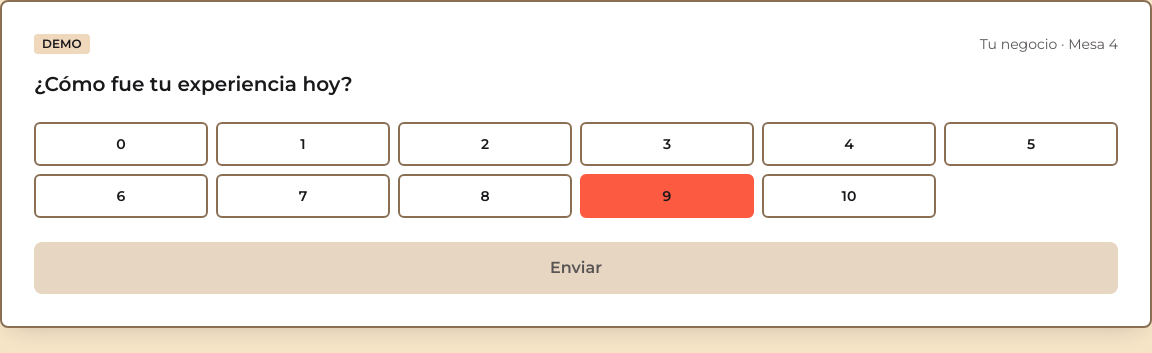
SurveyCard › submit button is disabled until a selection is made
Check: the button "Enviar" is disabled, box [34, 242, 1118, 294]
Select a value
Click the radio button labelled "5" at (1031, 144), box [944, 122, 1118, 166]
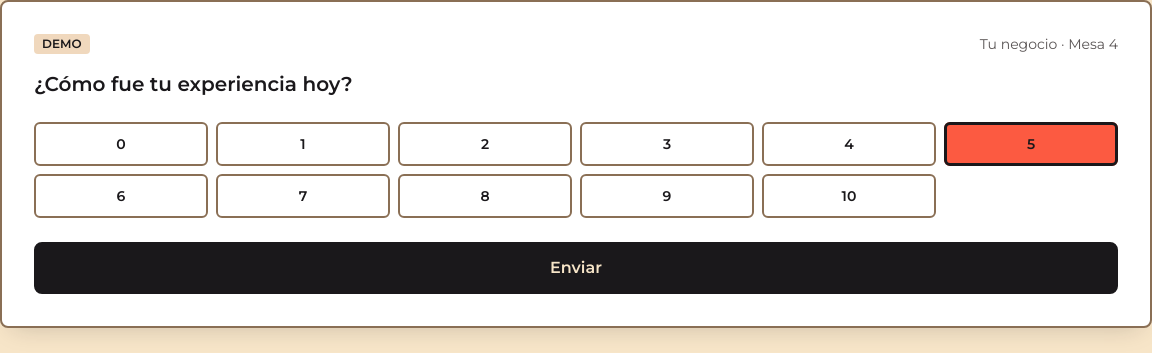
Check: the button "Enviar" is enabled, box [34, 242, 1118, 294]
